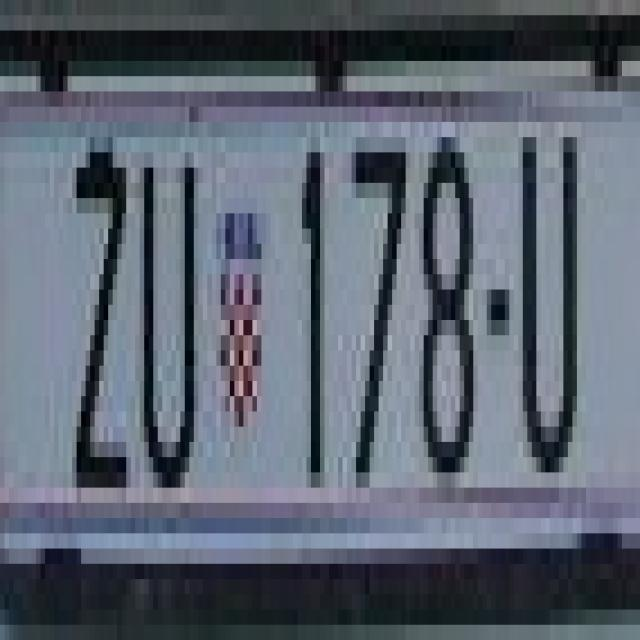1: (288, 152, 324, 518)
7: (342, 122, 397, 503)
8: (406, 106, 478, 488)
U: (514, 76, 581, 488), (140, 106, 198, 488)
Z: (68, 107, 135, 518)
